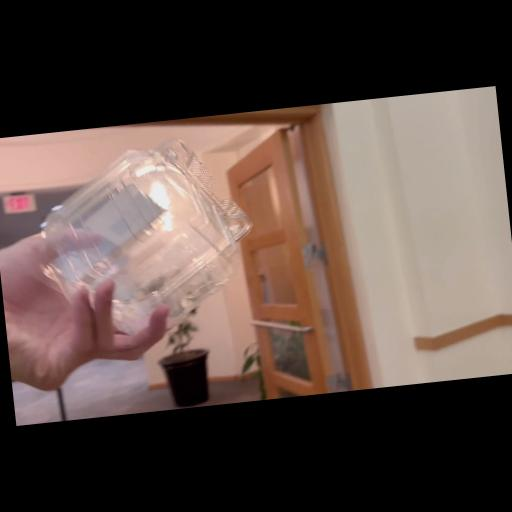small_plastic_container: (22, 128, 272, 350)
